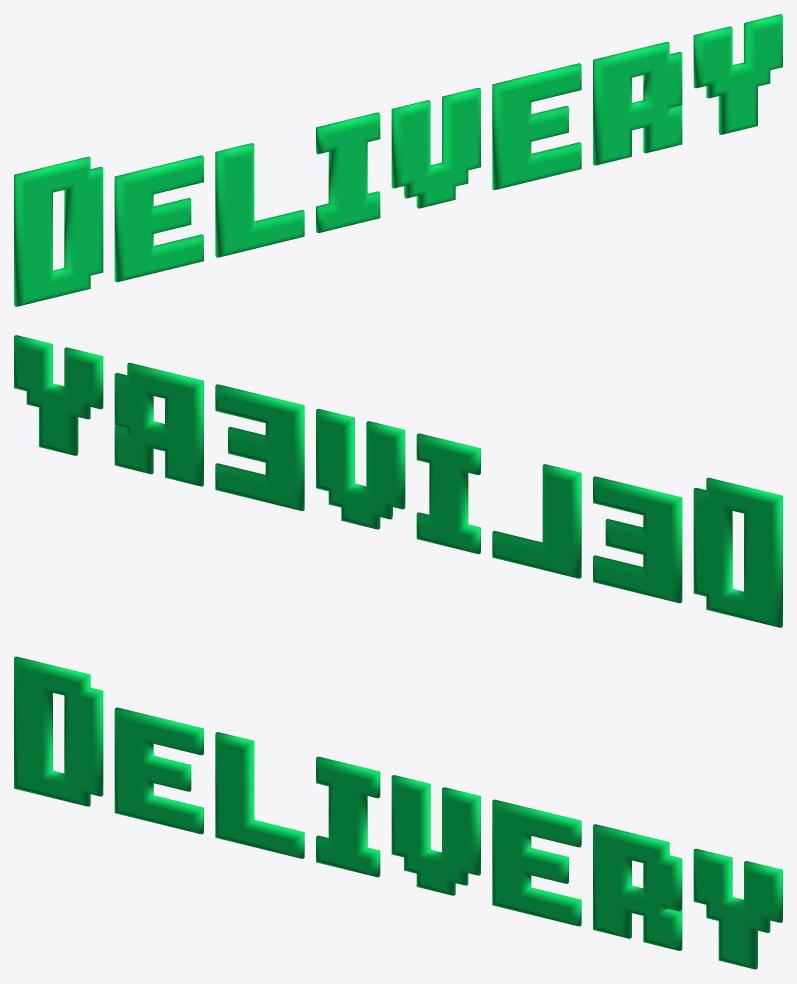
The model's file is delivery.gltf.
The picture shows the model from 3 angles, top to bottom: view 1: azimuth 30°, elevation 25°; view 2: azimuth 150°, elevation 25°; view 3: azimuth 330°, elevation 25°; orthographic projection.
Parts seen in each view (by area): view 1: Text; view 2: Text; view 3: Text.
Boxes of the visible parts, box(x1,y1,x2,y2) form: Text: box(14, 14, 782, 306); Text: box(14, 335, 782, 627); Text: box(14, 656, 782, 969).
Bounding box in the file's own units: 3.81 × 0.6226 × 0.06.
